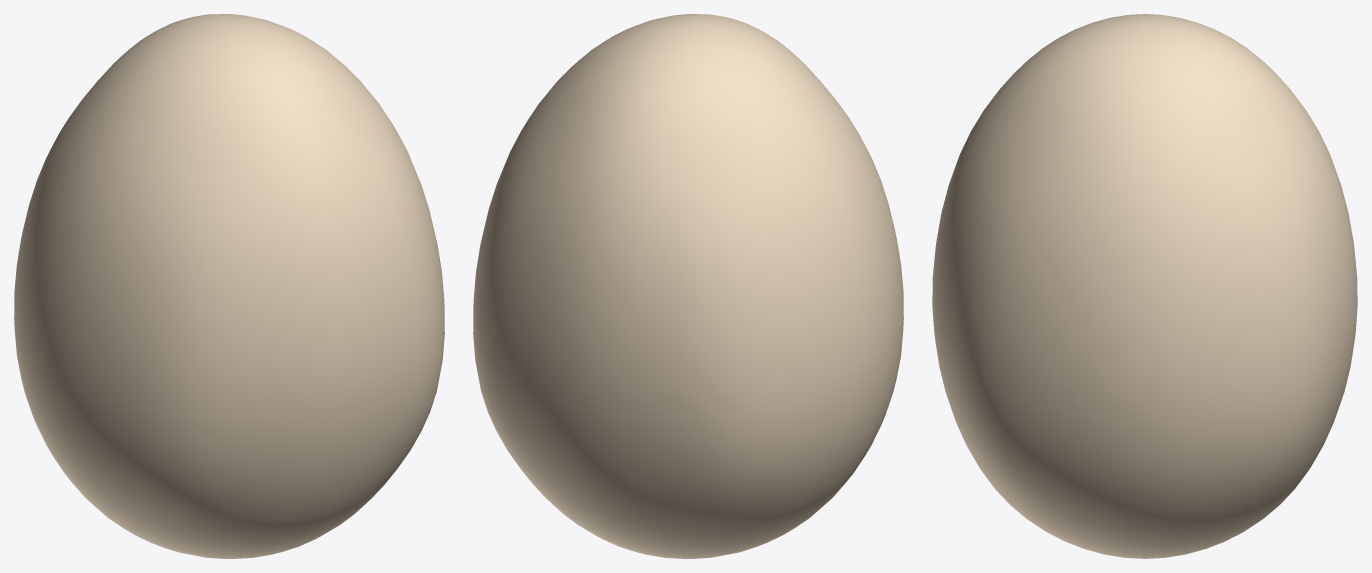
File: egg.glb
3 views of the same model, side by side, from view 1: azimuth 30°, elevation 25°; view 2: azimuth 150°, elevation 25°; view 3: azimuth 270°, elevation 25° (orthographic).
Parts seen in each view (by area): view 1: egg_shell; view 2: egg_shell; view 3: egg_shell.
Boxes of the visible parts, left/top/right/bottom form: egg_shell: left=14, top=14, right=444, bottom=558; egg_shell: left=473, top=14, right=903, bottom=558; egg_shell: left=932, top=14, right=1357, bottom=558.
Bounding box in the file's own units: 0.1521 × 0.2 × 0.1502.
